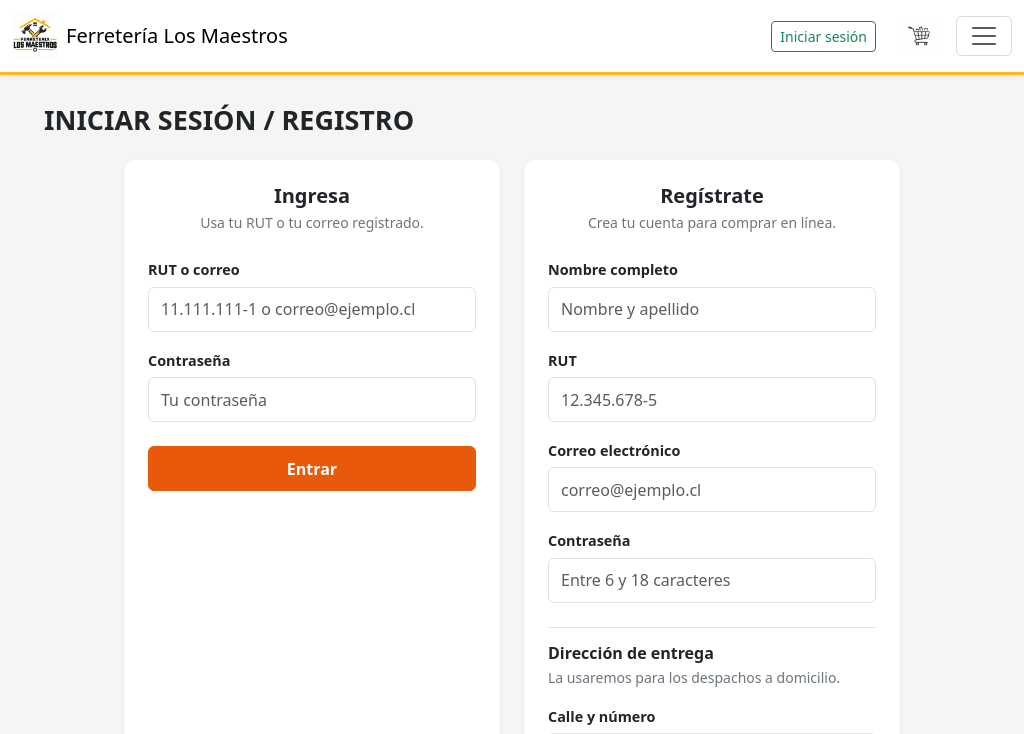
login de administrador y rutas protegidas › el admin entra con su correo y llega al panel
Type "admin@losmaestros.cl" into the field labelled "RUT o correo".
click(312, 309); type("admin@losmaestros.cl")  # box top-left (148, 286), bottom-right (476, 332)
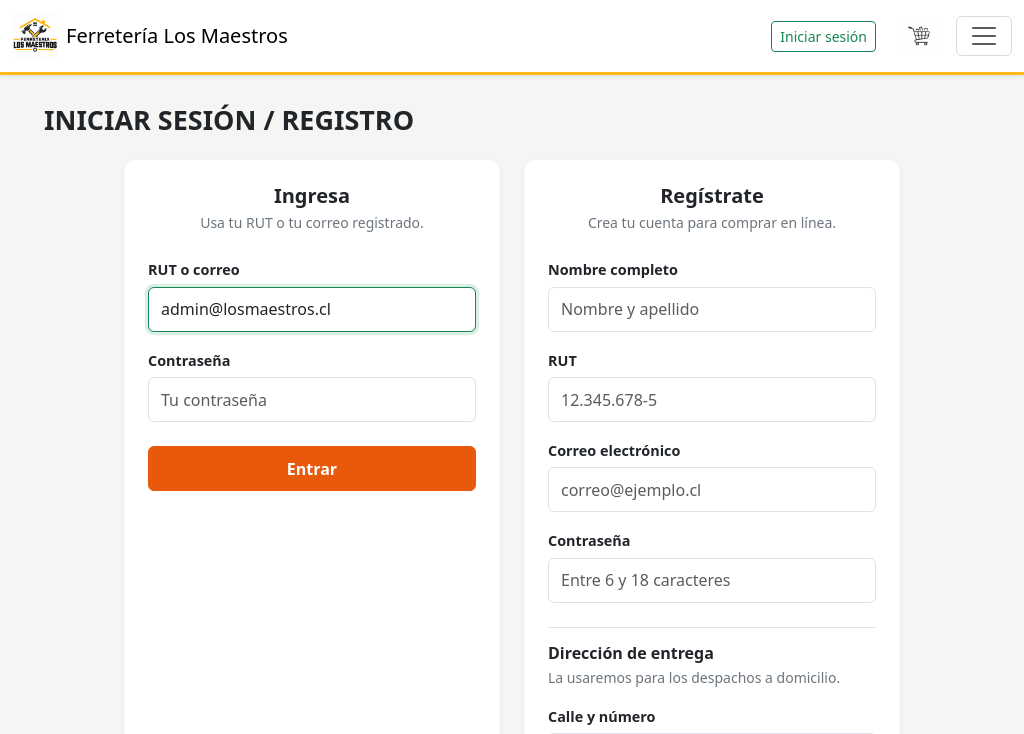
Type "admin123" into the password field labelled "Contraseña" below "RUT o correo".
click(312, 400); type("admin123")  # box top-left (148, 377), bottom-right (476, 422)
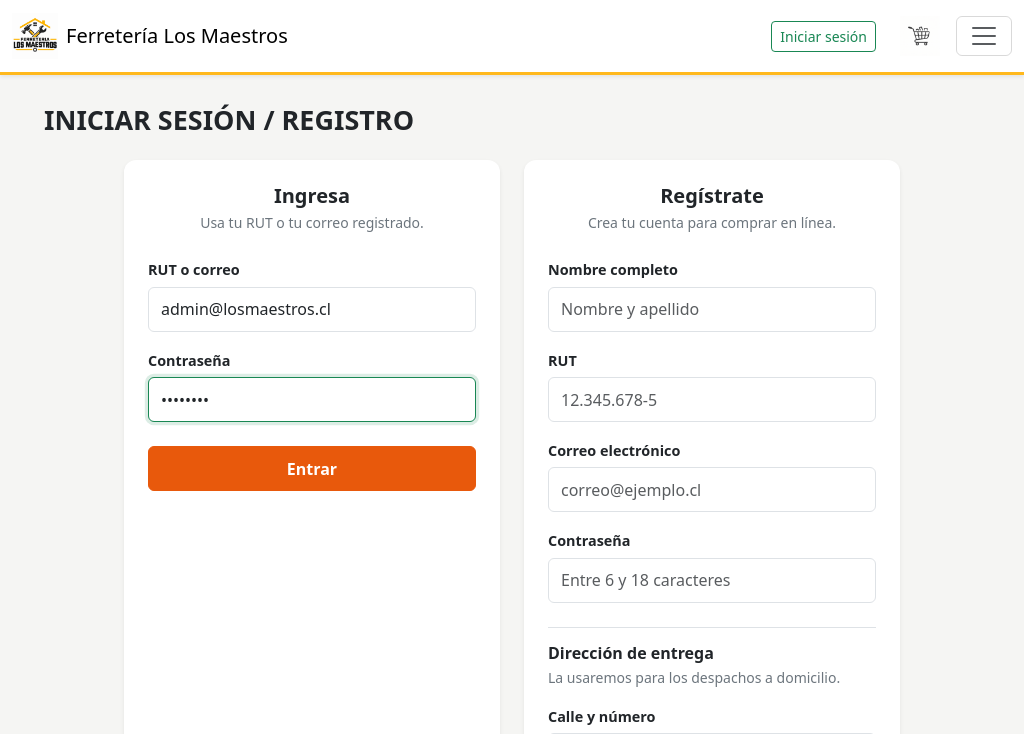
Click the button "Entrar".
click(312, 469)  # box top-left (148, 446), bottom-right (476, 491)
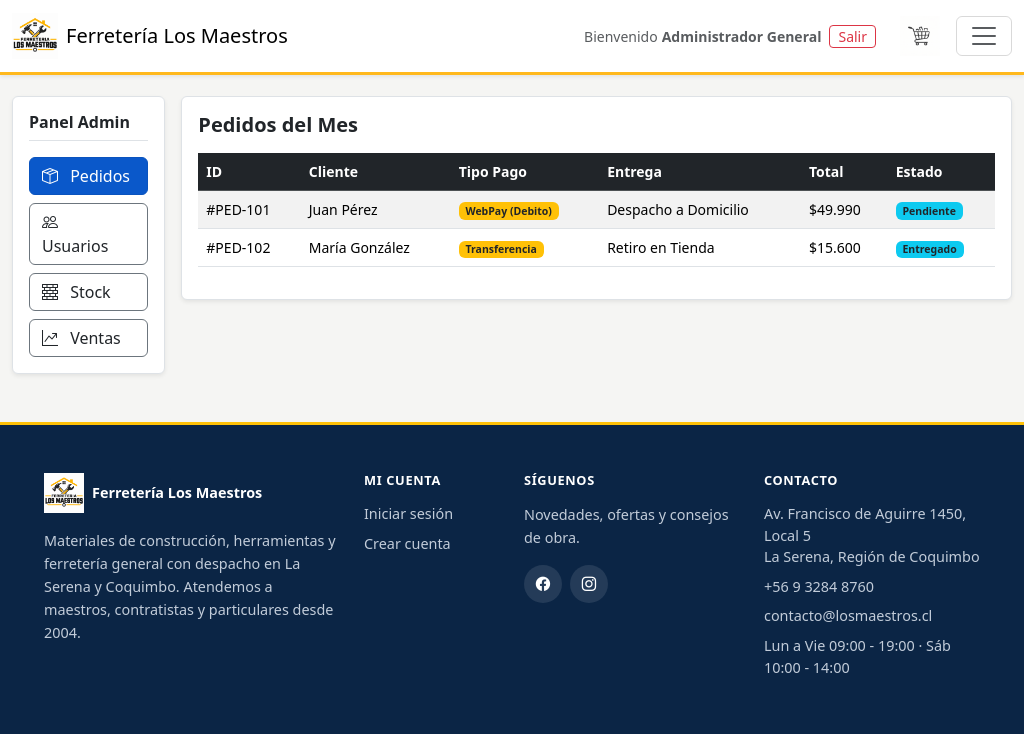
Now the heading "Panel Admin" is shown, box top-left (29, 113), bottom-right (148, 141)
